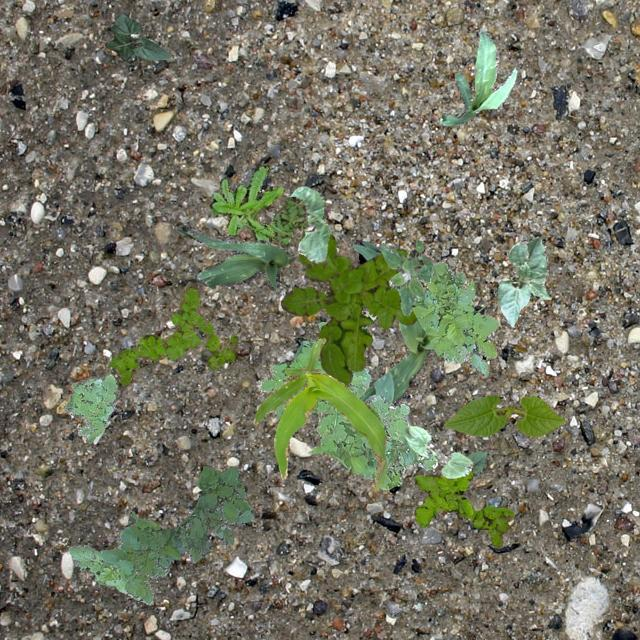crop: (352, 238, 482, 406), (252, 336, 386, 489), (176, 224, 294, 290), (438, 28, 516, 124), (444, 394, 564, 436), (496, 236, 550, 326), (402, 424, 472, 478), (104, 12, 172, 60), (290, 185, 328, 262), (464, 450, 486, 476)
weed: (258, 321, 437, 488), (68, 464, 252, 604), (279, 228, 416, 384), (108, 282, 236, 384), (410, 260, 498, 376), (412, 470, 512, 548), (208, 164, 282, 242), (378, 238, 432, 314), (62, 372, 116, 442), (268, 196, 306, 250)
